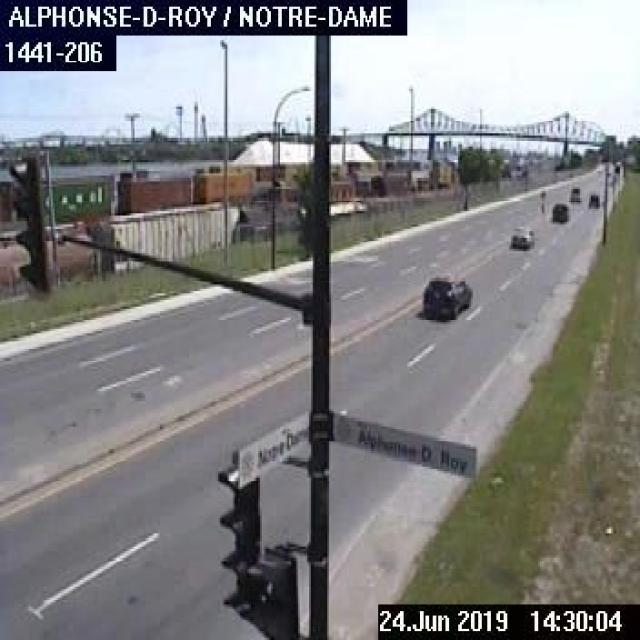vehicle: (418, 271, 470, 318), (508, 225, 534, 250), (550, 201, 568, 222), (587, 192, 599, 208), (568, 185, 580, 201)
